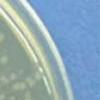white: (10, 81, 26, 91), (25, 77, 36, 86), (0, 32, 6, 46), (17, 68, 24, 80), (1, 56, 9, 65), (8, 72, 17, 80), (24, 74, 33, 82), (24, 89, 31, 97), (22, 94, 31, 100), (7, 94, 16, 100), (0, 74, 6, 82), (0, 93, 6, 99), (4, 78, 7, 83)
